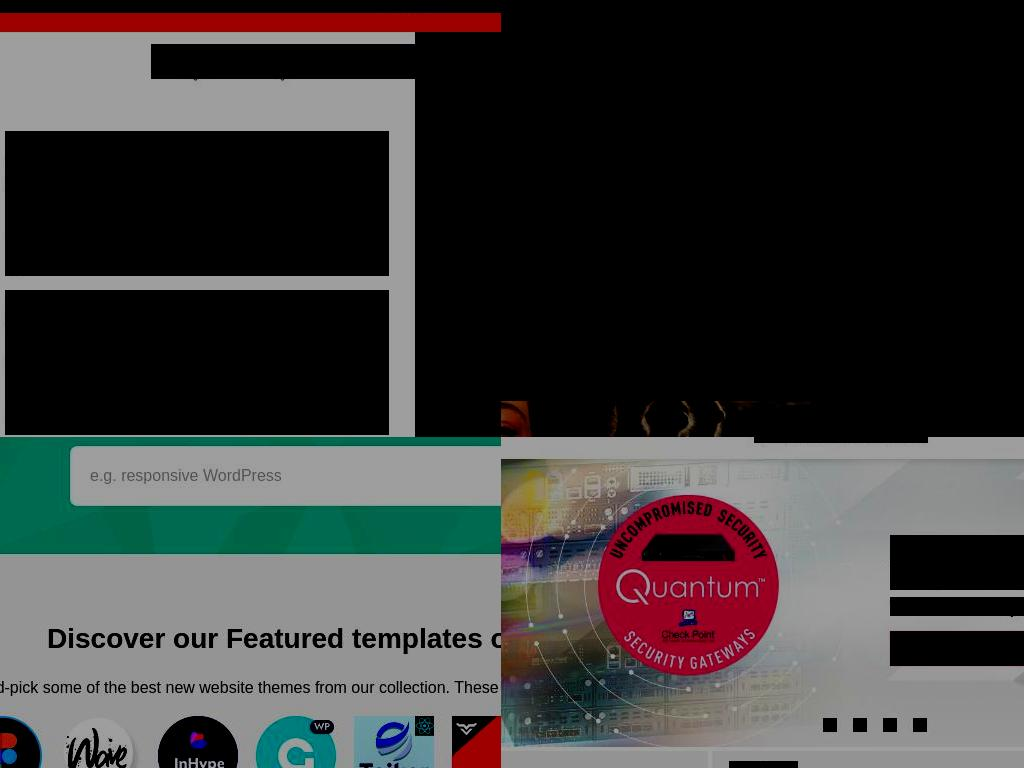button: (501, 0, 1024, 322), (589, 337, 811, 437), (890, 631, 1024, 666), (326, 44, 425, 79), (237, 44, 327, 79), (151, 44, 238, 79), (424, 44, 501, 79), (754, 437, 928, 443)
field: (70, 446, 501, 507)
heading: (5, 131, 389, 276), (5, 290, 389, 435), (0, 618, 501, 661), (890, 535, 1024, 566), (890, 559, 1024, 590)
image: (501, 0, 1024, 401), (0, 437, 501, 555), (589, 337, 811, 437), (60, 716, 140, 768), (158, 716, 238, 768), (256, 716, 336, 768), (354, 716, 434, 768), (452, 716, 501, 768), (0, 716, 42, 768), (754, 437, 928, 443), (823, 718, 837, 732), (853, 718, 867, 732), (883, 718, 897, 732), (913, 718, 927, 732)
link: (943, 268, 1024, 316), (400, 0, 434, 13)
text: (501, 191, 722, 248), (0, 676, 501, 701), (816, 337, 1024, 356), (890, 597, 1024, 616)
